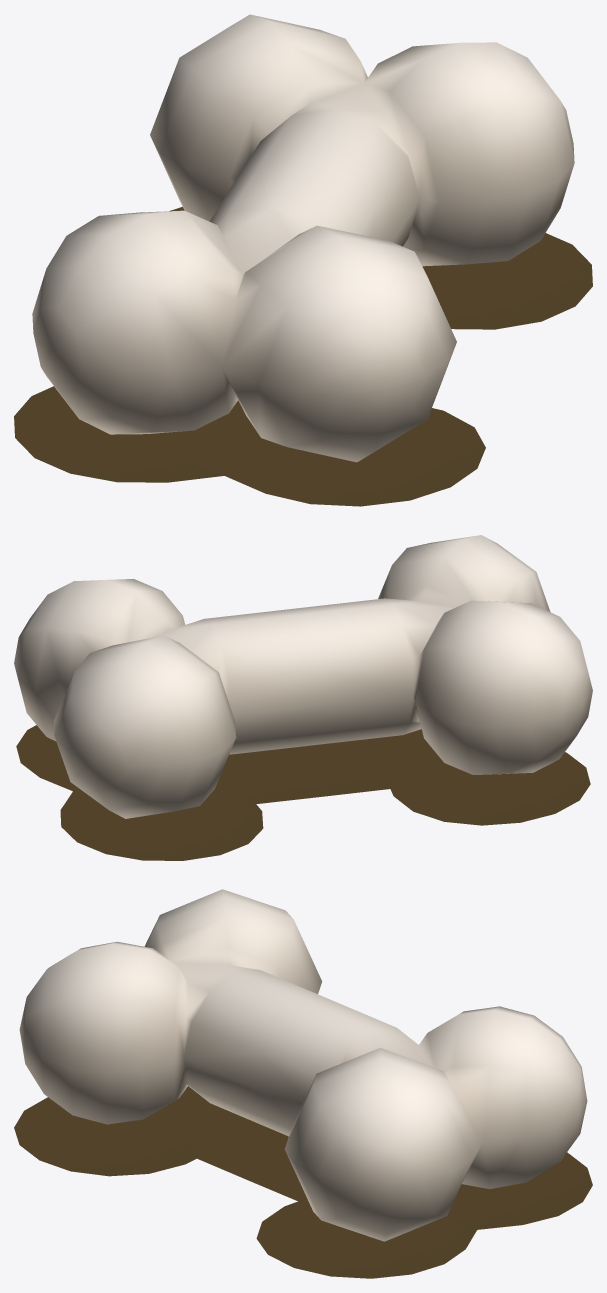
Rendered from Bone.fbx.
3 views of the same model, one above another, from view 1: azimuth 30°, elevation 25°; view 2: azimuth 150°, elevation 25°; view 3: azimuth 270°, elevation 25° (orthographic). The views are drawn at different scales.
Visible parts, largest first — view 1: polySurface1, polySurface2; view 2: polySurface1, polySurface2; view 3: polySurface1, polySurface2.
Part boxes in pixels (bbox=[...]): polySurface1: bbox=[32, 14, 574, 462]; polySurface2: bbox=[14, 207, 592, 506]; polySurface1: bbox=[14, 535, 592, 818]; polySurface2: bbox=[16, 725, 590, 860]; polySurface1: bbox=[19, 889, 587, 1241]; polySurface2: bbox=[14, 1086, 592, 1278].
Size of the model in its own units: 96.87 by 33.17 by 96.87.
